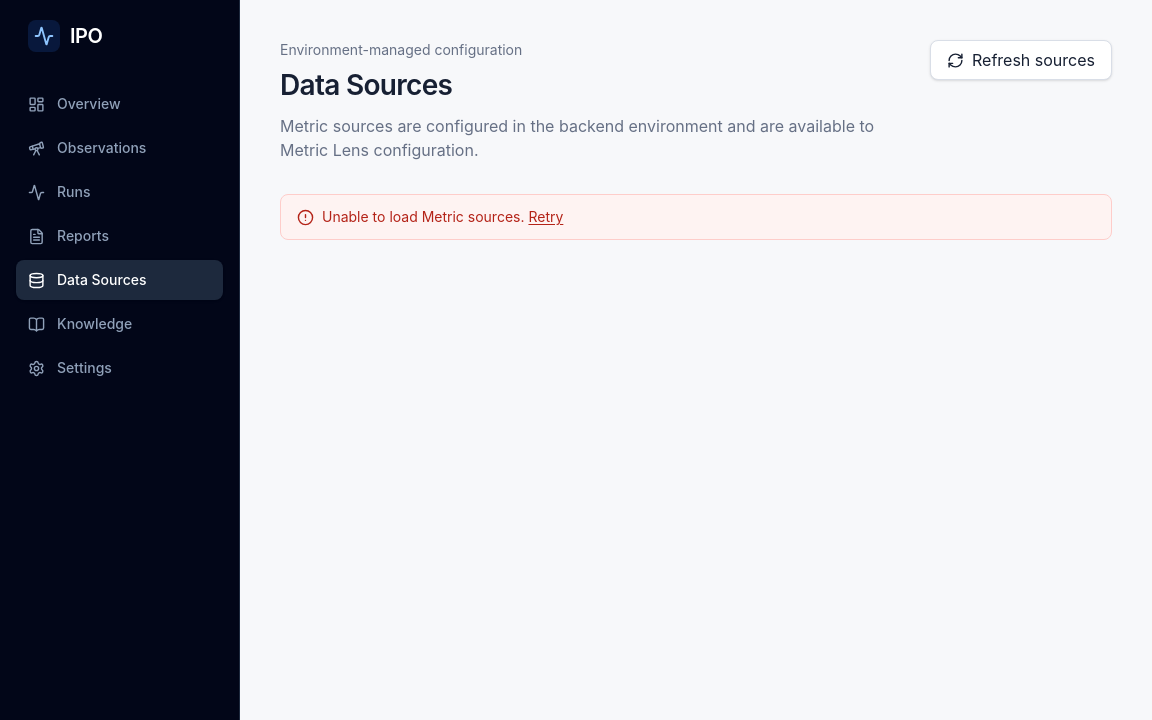
Scenario: DataSourcesPage › shows a retryable error instead of treating failures as an empty registry
This screenshot has width=1152, height=720.
Expected: the message shows "Unable to load Metric sources", [322, 208, 528, 225]
Expected: the text "No Metric sources are configured" is not shown
Click the button "Retry" at (546, 217), box [528, 207, 563, 227]
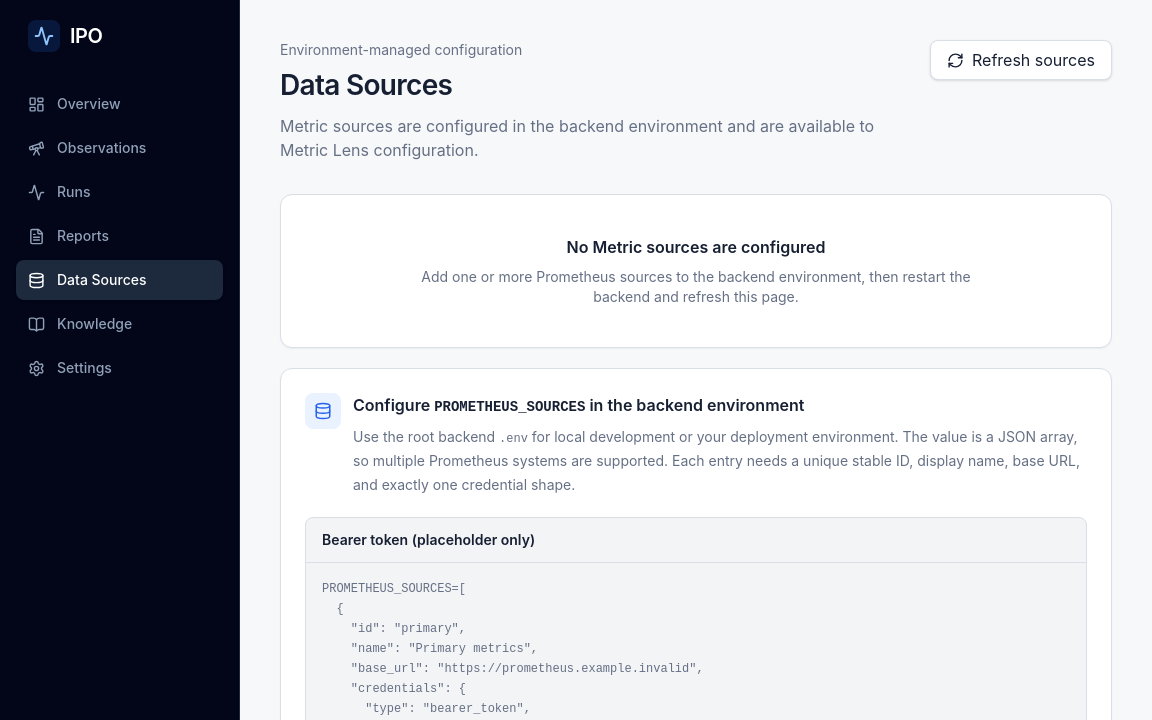
Now the heading "No Metric sources are configured" is shown, box [566, 237, 826, 257]
